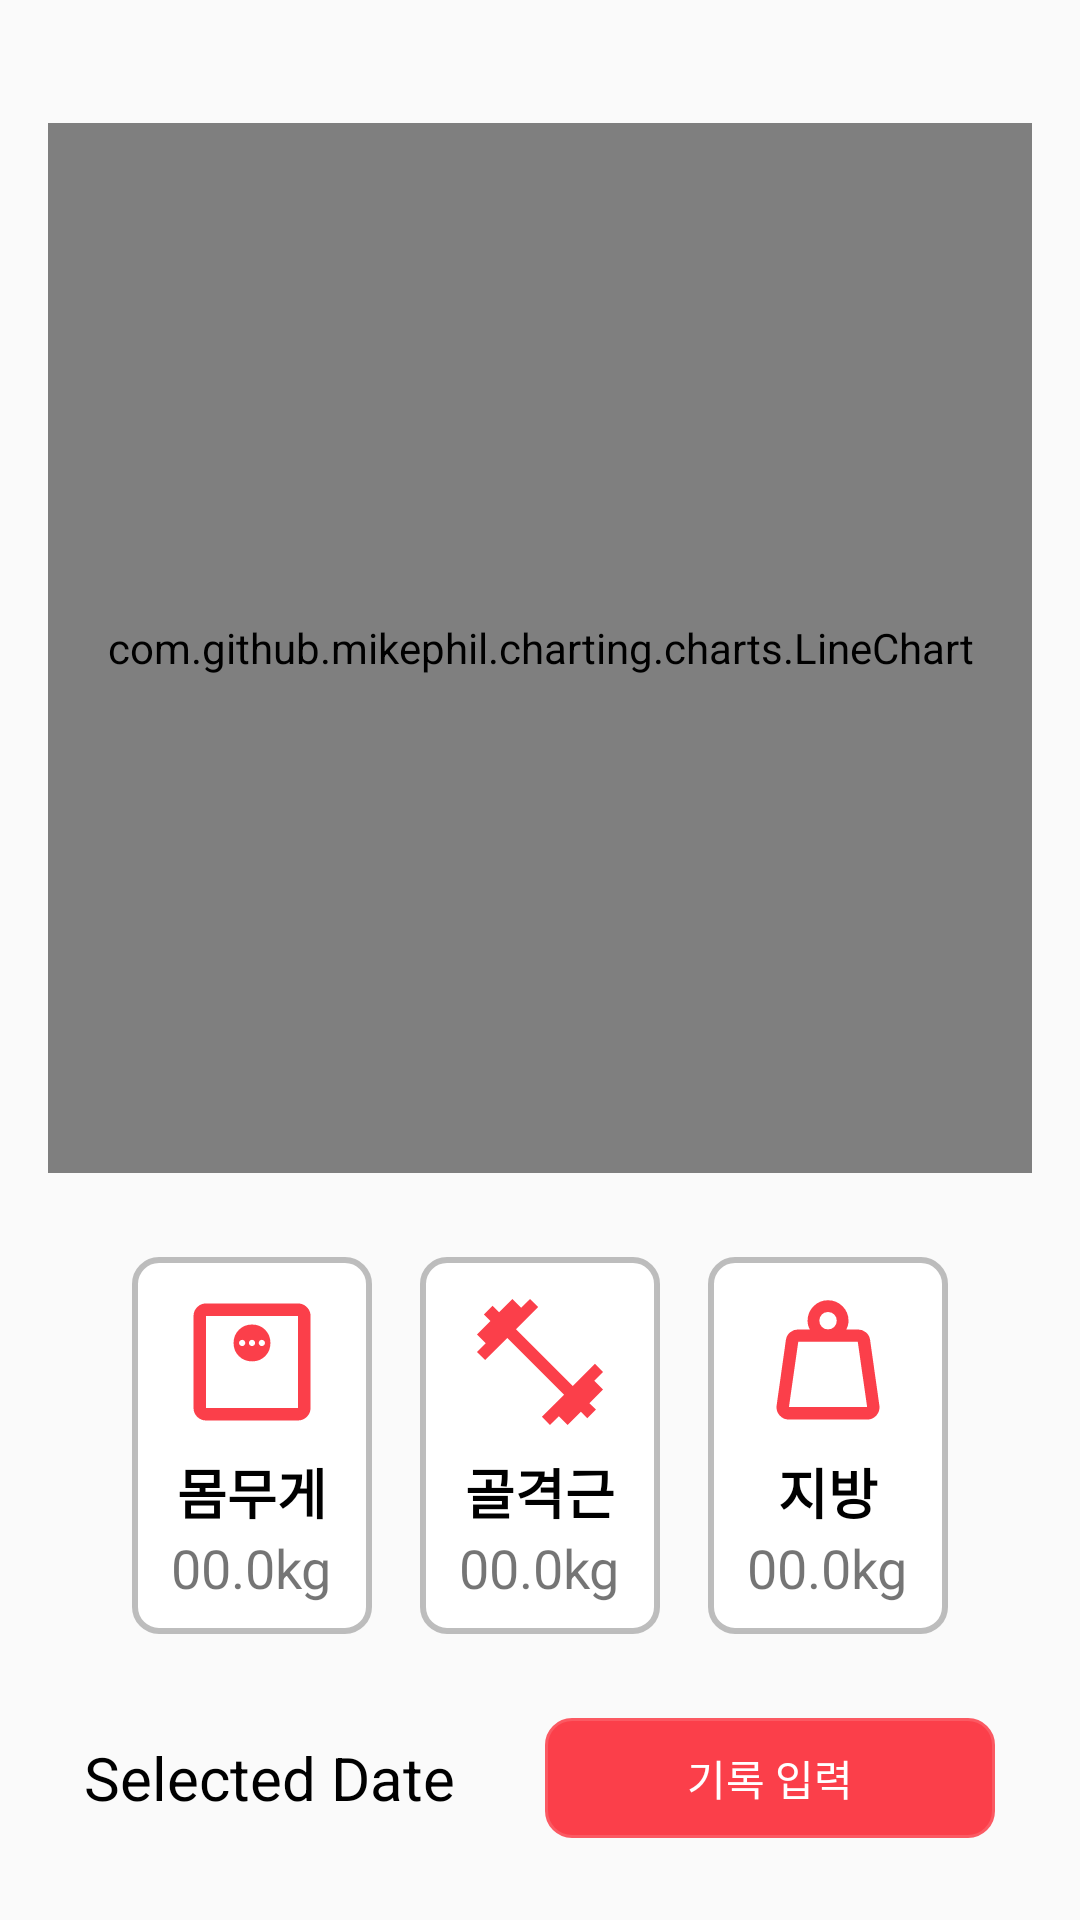

Where icons sit on this 1080w x 1920h app screen, as (x1, y1, x2, y2):
fitness center: (477, 1299, 603, 1425)
monitor weight: (193, 1303, 311, 1421)
weight: (776, 1300, 880, 1420)
